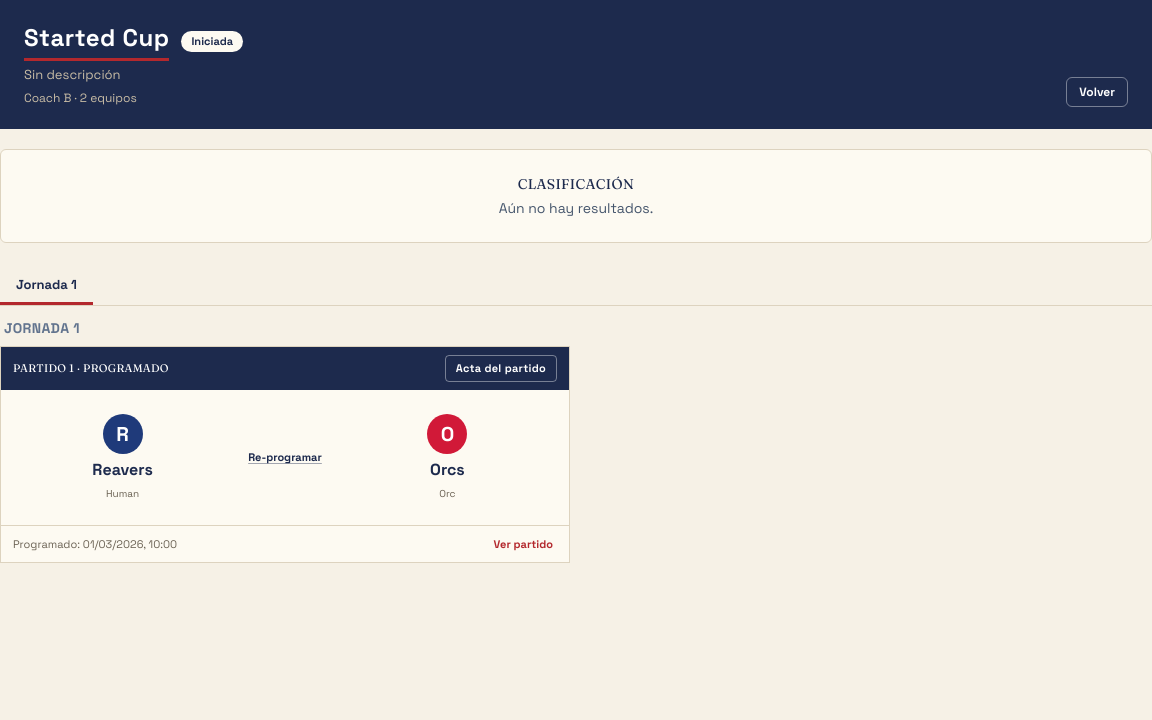
Test: LeagueDetail — STARTED league › opens the acta wizard PREFILLED for a scheduled fixture whose live match finished (s4c corrective)
Click the button "Acta del partido". click: (501, 368)
box: [445, 355, 557, 382]
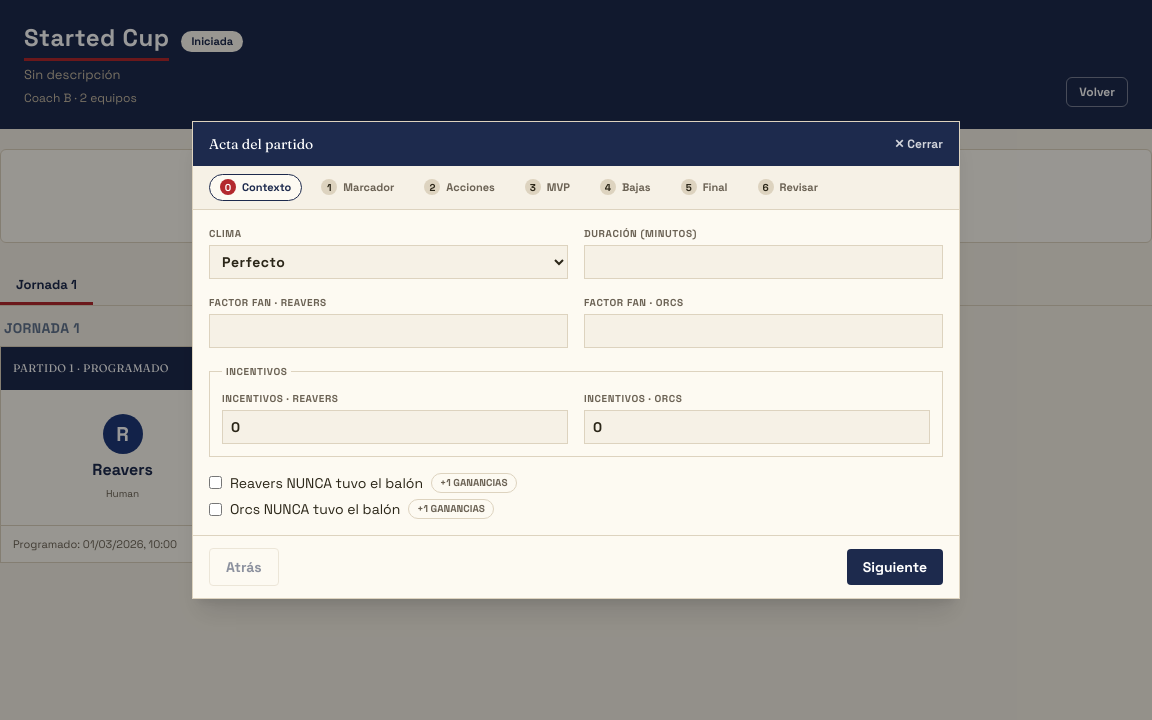
Result: the dialog "Acta del partido" is shown at [192, 121, 960, 599]
Marcador opens with the finished live score (not the empty 0:0 default).
Click the button "Siguiente". click: (895, 567)
box: [847, 549, 943, 585]
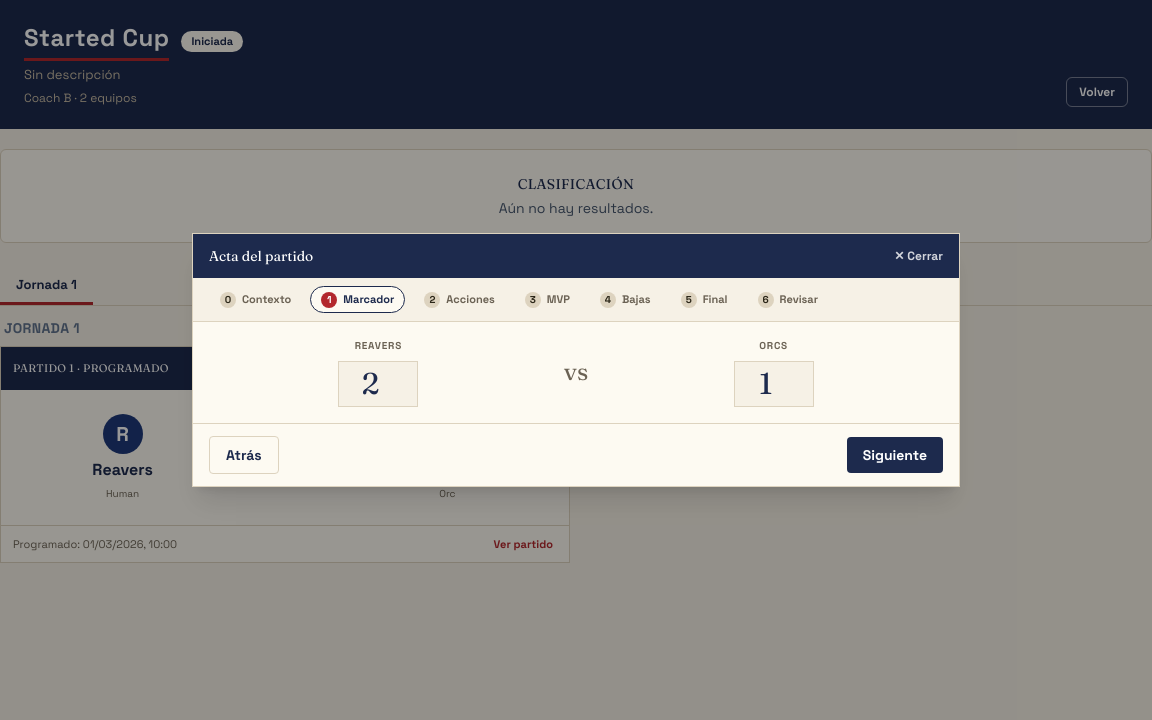
Result: the number field labelled "Reavers" holds "2" at [338, 361, 418, 407]
Result: the number field labelled "Orcs" holds "1" at [734, 361, 814, 407]
Acciones carries the per-scorer TD lines derived from the live feed.
Click the button "Siguiente". click: (895, 455)
box: [847, 437, 943, 473]
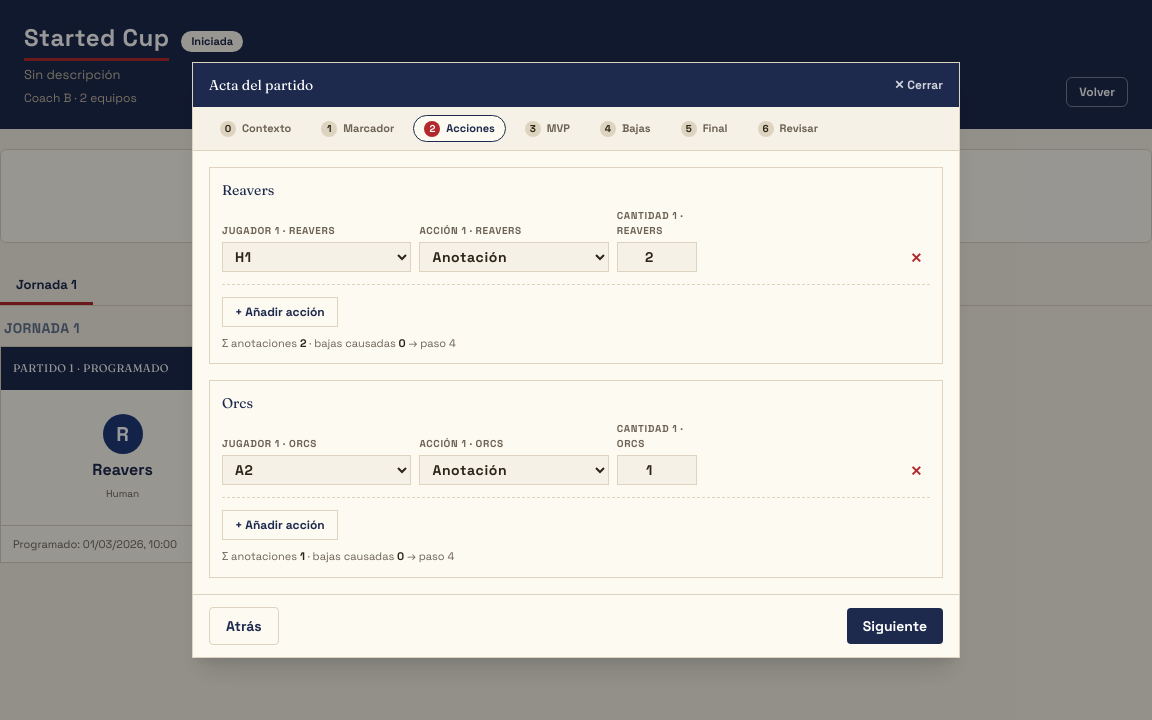
Result: the dropdown labelled "Jugador 1 · Reavers" shows "H1" at [222, 242, 411, 272]
Result: the number field labelled "Cantidad 1 · Reavers" holds "2" at [617, 242, 697, 272]
